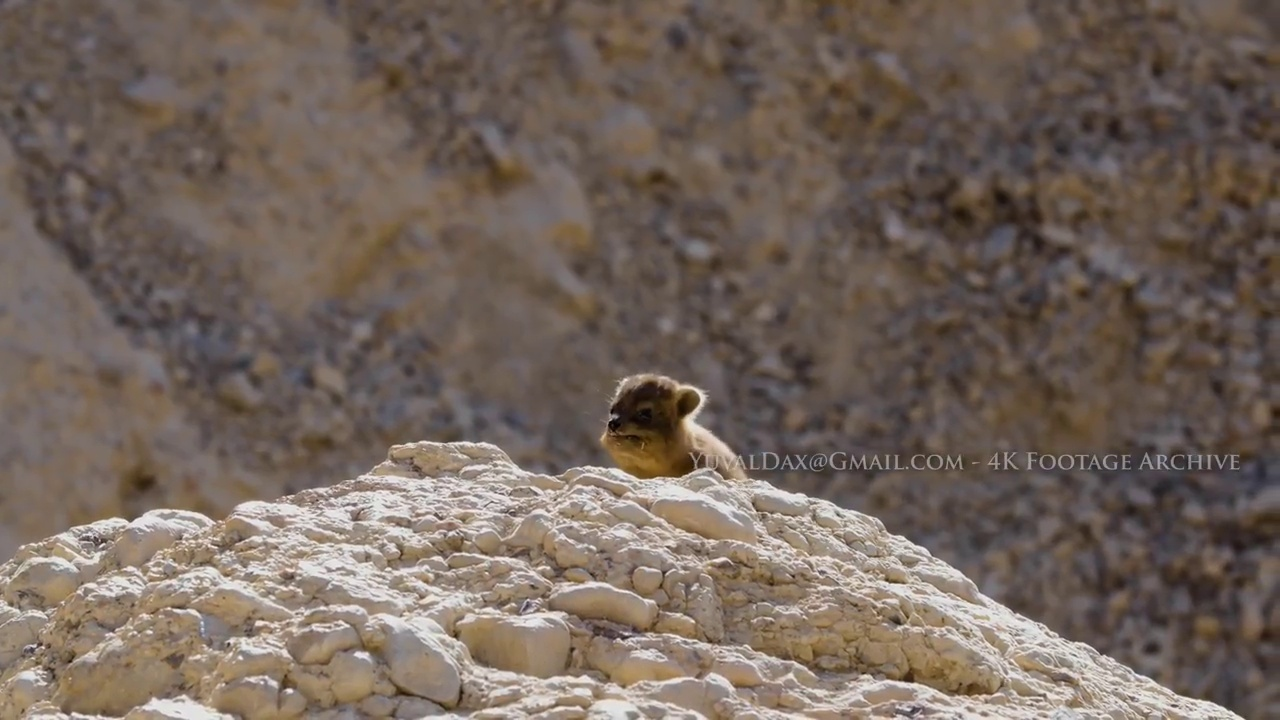Rock Hyrex: (603, 371, 754, 481)
